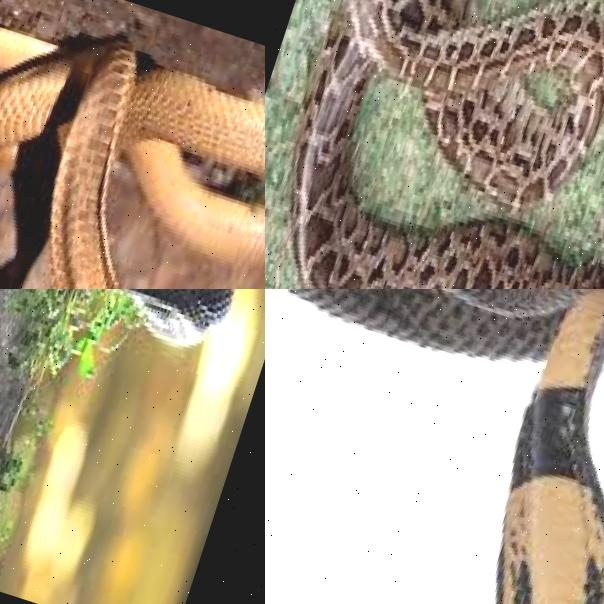1: (0, 0, 265, 289)
5: (0, 289, 265, 604), (399, 289, 604, 604)
snake: (265, 0, 604, 289)
